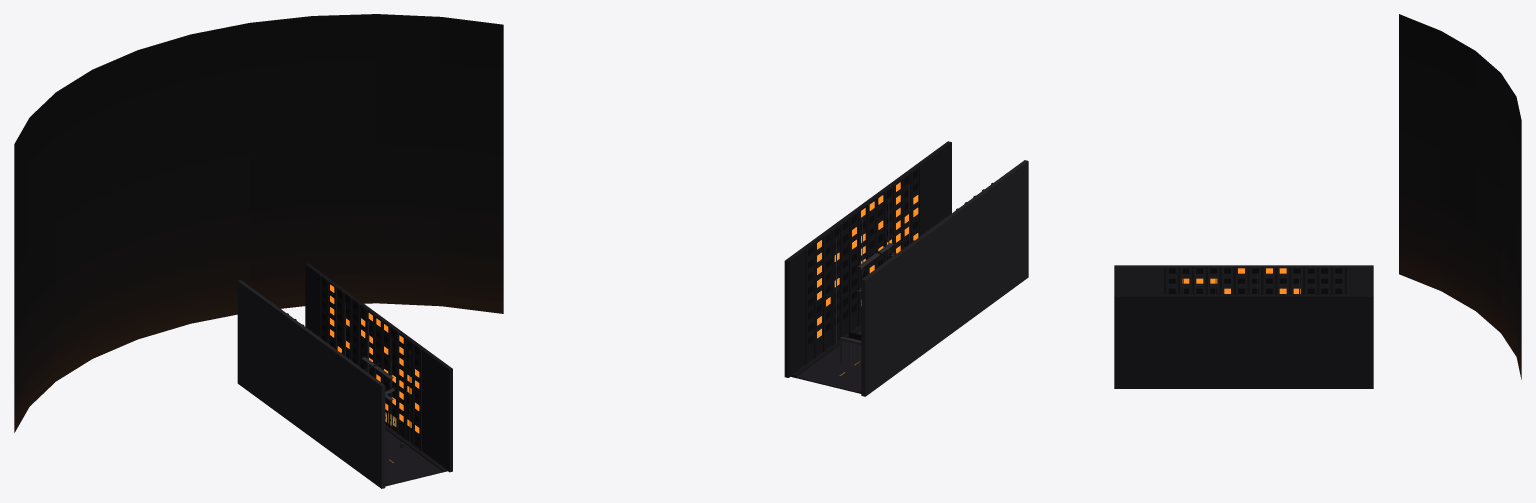
File: room3.glb
3 renders of one model, left to right at view 1: azimuth 30°, elevation 25°; view 2: azimuth 150°, elevation 25°; view 3: azimuth 270°, elevation 25°, orthographic. The views are drawn at different scales.
Visible parts, largest first — view 1: backdrop_room3_sky, facade_left, facade_right, r3_street; view 2: facade_left, facade_right, r3_street; view 3: backdrop_room3_sky, facade_right, facade_left.
Boxes of the visible parts, box(x1,y1,x2,y2) form: backdrop_room3_sky: box(14, 14, 503, 432); facade_left: box(237, 280, 385, 488); facade_right: box(305, 263, 452, 472); r3_street: box(385, 424, 447, 486); facade_left: box(861, 160, 1028, 396); facade_right: box(784, 141, 951, 377); r3_street: box(791, 324, 861, 393); backdrop_room3_sky: box(1399, 14, 1521, 379); facade_right: box(1114, 294, 1373, 388); facade_left: box(1114, 265, 1373, 294).
Size of the model in its own units: 110 by 62 by 88.
Materials: 24 (4 with a texture image).
